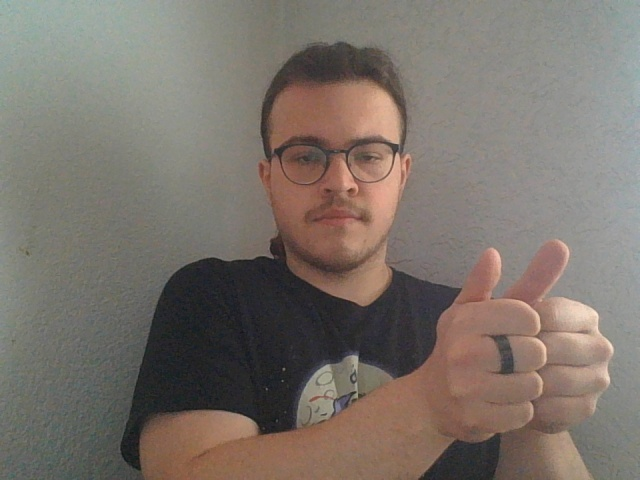Agree: (432, 236, 616, 438)
